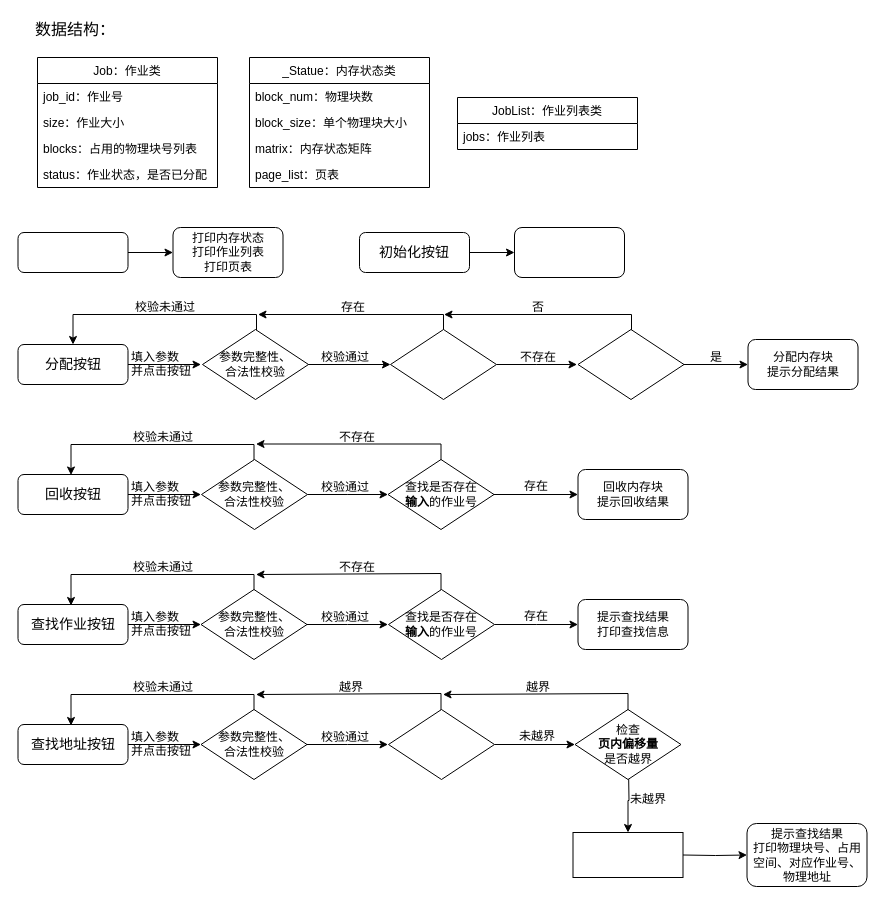
Image size: 884x904. Some labels were removed from this diagram. The centre of each missing label's shape, as x and y in pixels:
"初始化内存状态 初始化作业列表 初始化页表" goes at point 569,252.
"查找是否存在 重复 的作业号" goes at point 443,364.
"查询按钮" goes at point 72,252.
"根据 页表 查找 页号对应物理块号 计算物理地址" goes at point 627,855.
"检查 页号 是否越界" goes at point 441,744.
"确认剩余内存 资源是否足够" goes at point 630,364.
